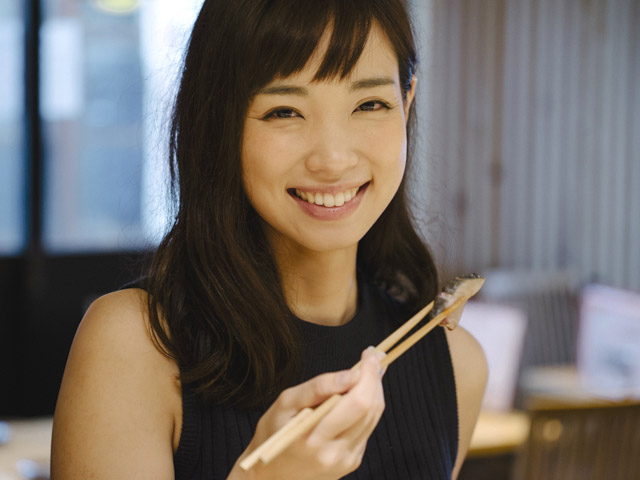face: (241, 13, 420, 253)
hand: (229, 345, 389, 480)
